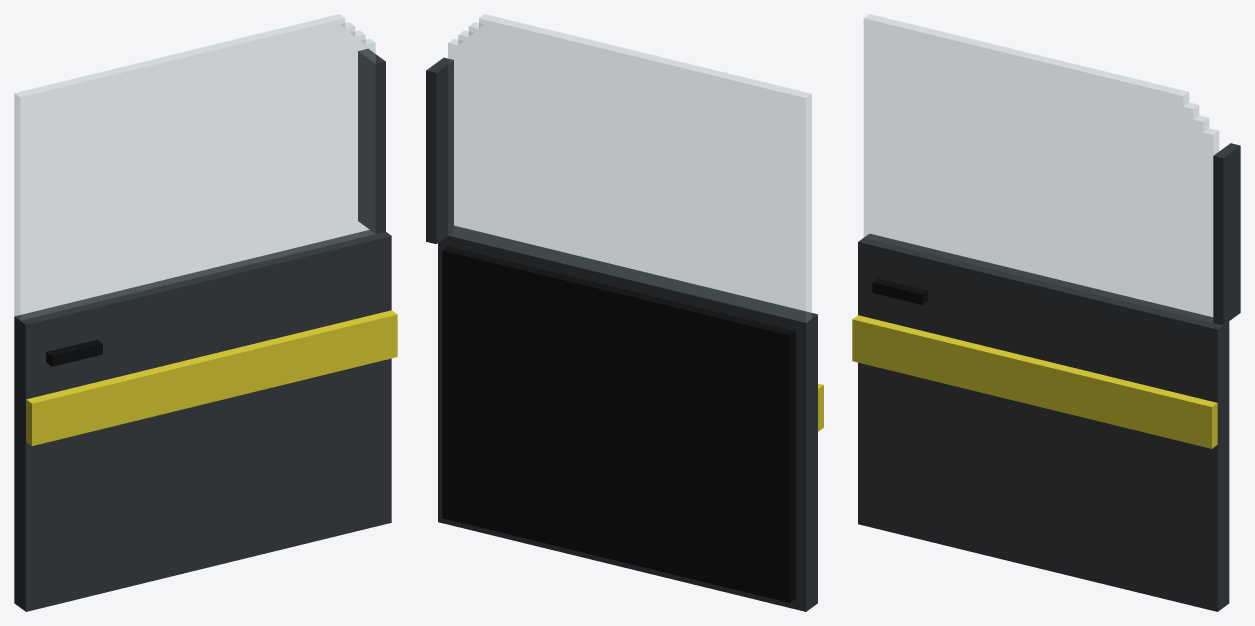
Rendered from security_van_front_door.glb.
3 renders of one model, left to right at view 1: azimuth 30°, elevation 25°; view 2: azimuth 150°, elevation 25°; view 3: azimuth 330°, elevation 25°, orthographic. The views are drawn at different scales.
Visible parts, largest first — view 1: body:compound; view 2: body:compound; view 3: body:compound.
Part boxes in pixels (x1,y1,x2,y2): body:compound: (14, 14, 397, 611); body:compound: (426, 14, 823, 611); body:compound: (852, 14, 1240, 611).
Size of the model in its own units: 1.12 by 1.5 by 0.1562.
